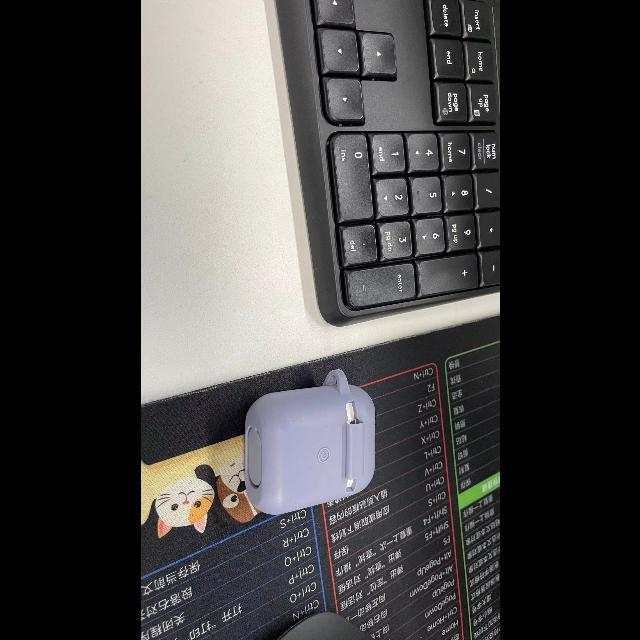airpods: (242, 368, 376, 517)
